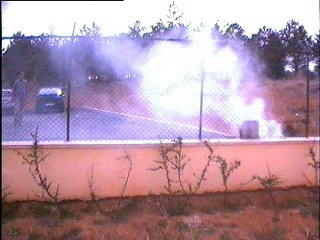smoke: (117, 25, 283, 140)
